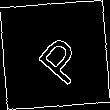P_NW: (23, 24, 87, 86)
